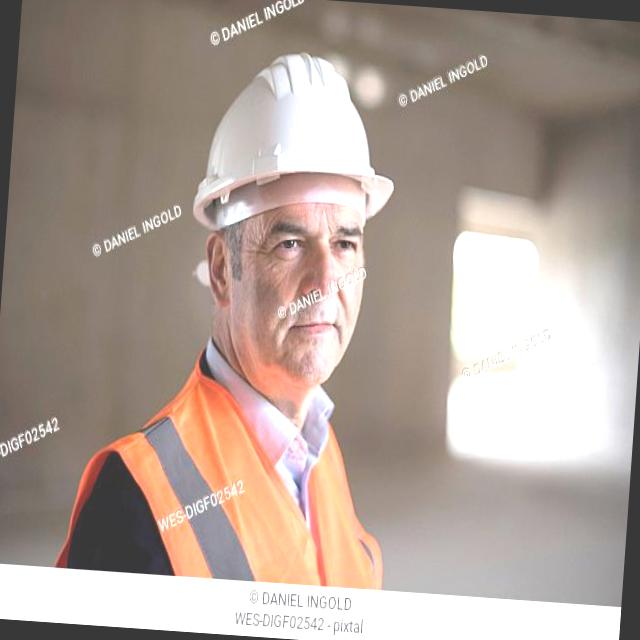helmet: (187, 38, 404, 251)
no-goggles: (242, 204, 390, 278)
vest: (54, 332, 400, 590)
